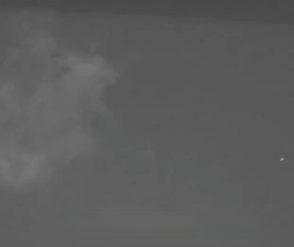Target: (280, 158, 283, 160)
